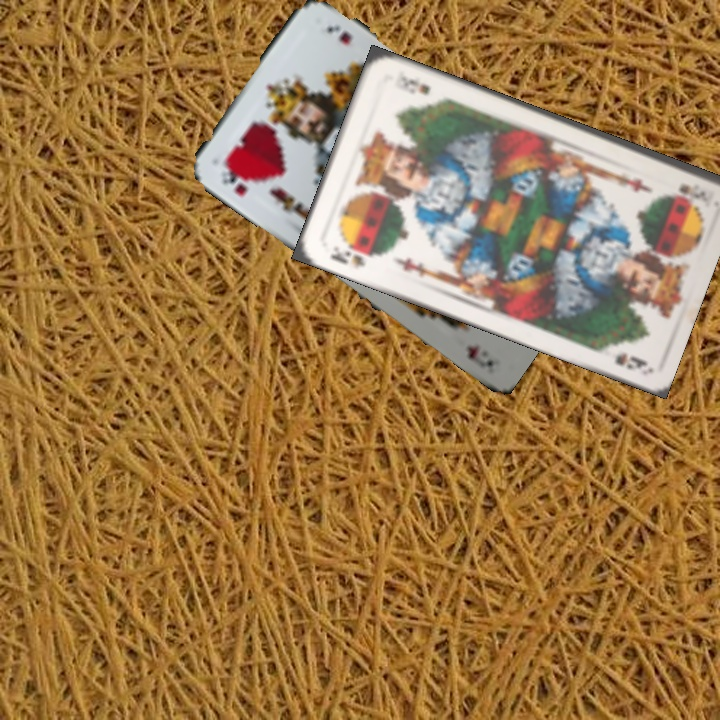HK: (217, 160, 251, 198)
SK: (327, 242, 375, 271), (674, 180, 710, 202)
